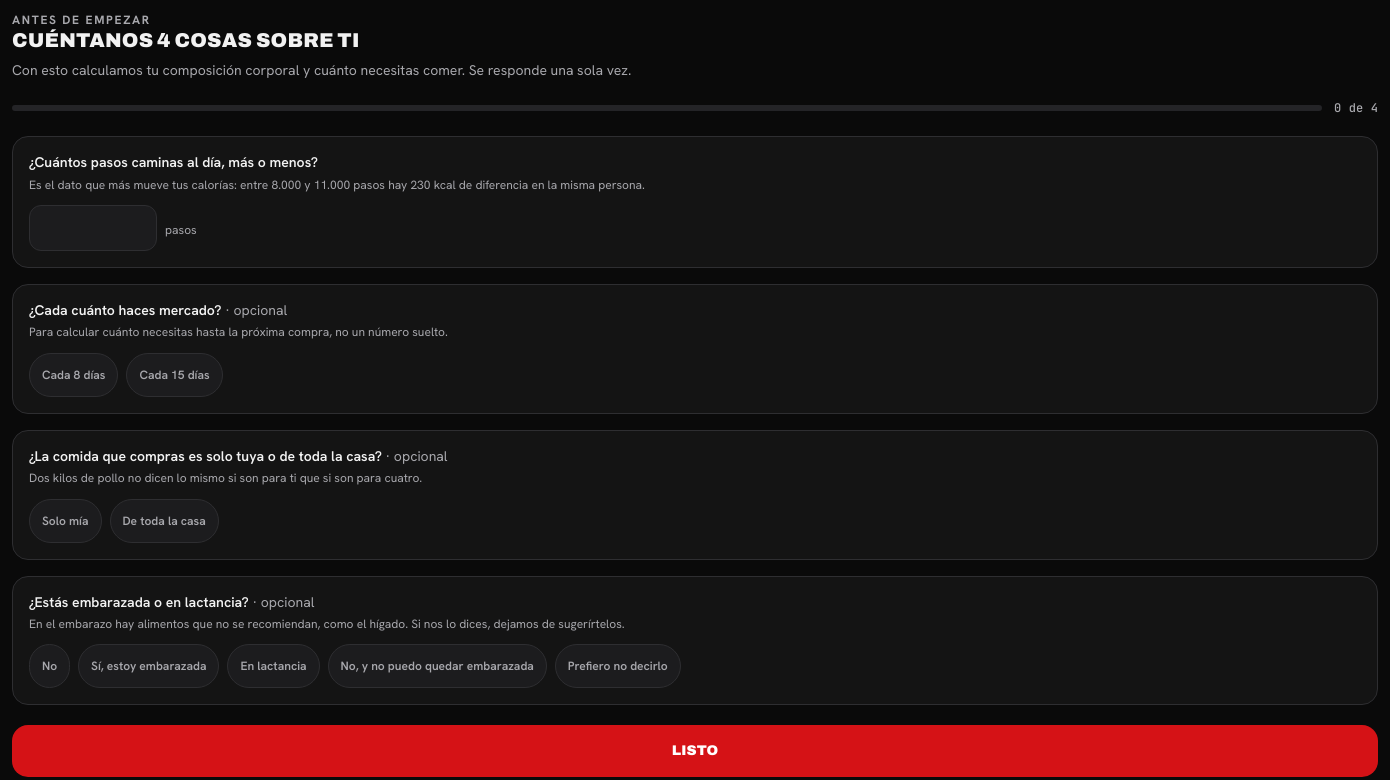
Test: EncuestaNutricion › al terminar › un número fuera de rango se marca con su límite
In the number field labelled "¿Cuántos pasos caminas al día, más o menos?": {"x": 93, "y": 228} [29,205,157,251], type "90000"
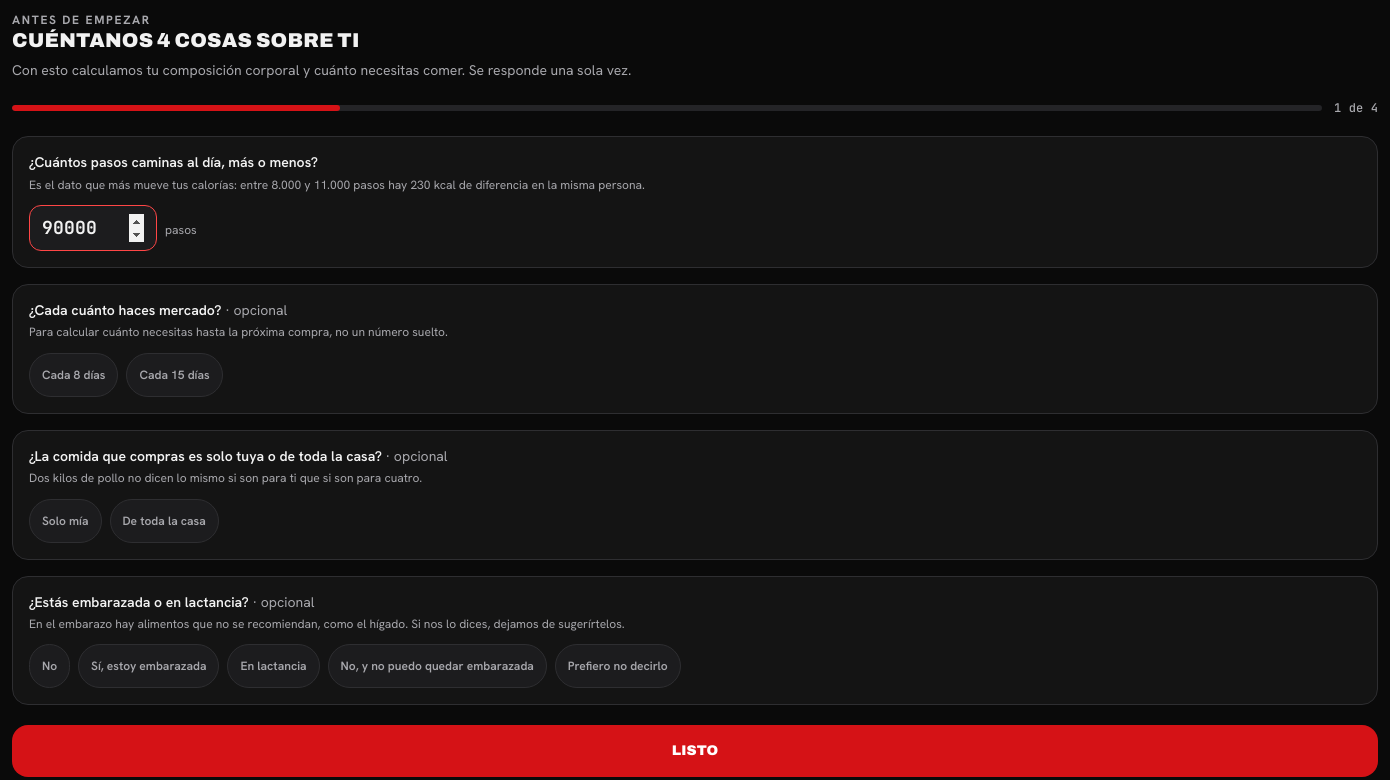
Click the button "Listo": {"x": 695, "y": 751} [12,725,1378,777]
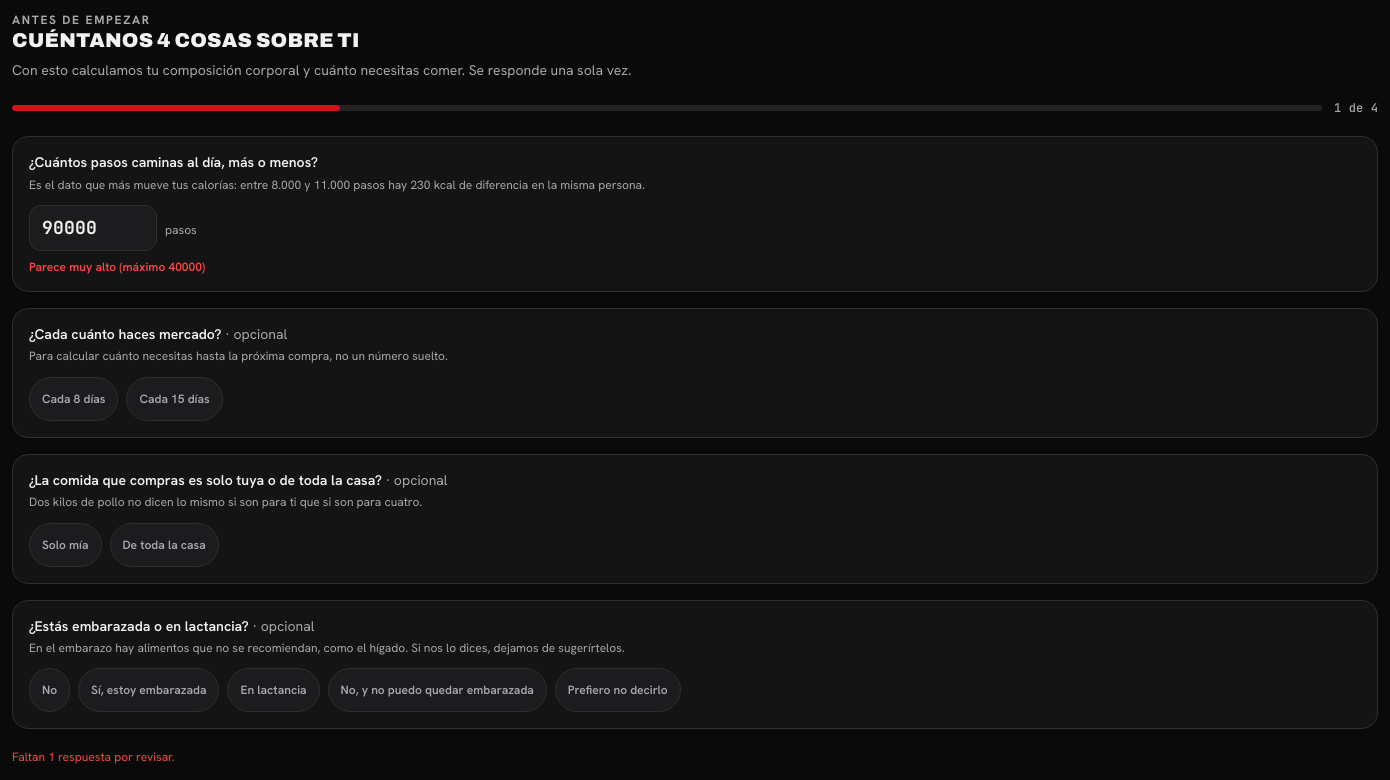
Expected: the text "Parece muy alto (máximo 40000)" is shown, [29,259,205,275]
